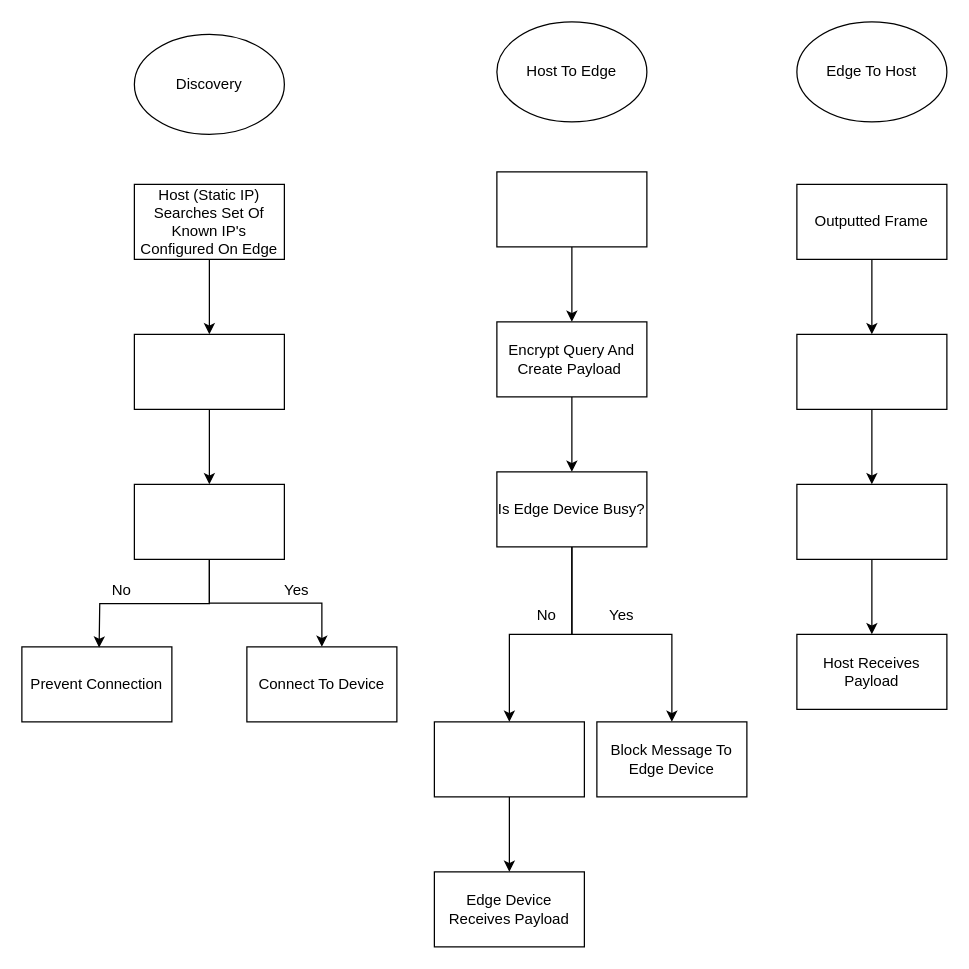
The diagram is 969 pixels wide and 969 high, and some of its shapes have lost their labels. Each missing label, with the centre of its shape:
"Encrypt Image And Create Payload" goes at (x=871, y=371).
"Find Edge Device With Given IP" goes at (x=208, y=371).
"Input Query" goes at (x=571, y=209).
"Is OAuth Handshake Successful?" goes at (x=208, y=521).
"Network Carries Query To Edge Device Through TCP" goes at (x=508, y=759).
"Network Carries Query To Host Through TCP" goes at (x=871, y=521).
